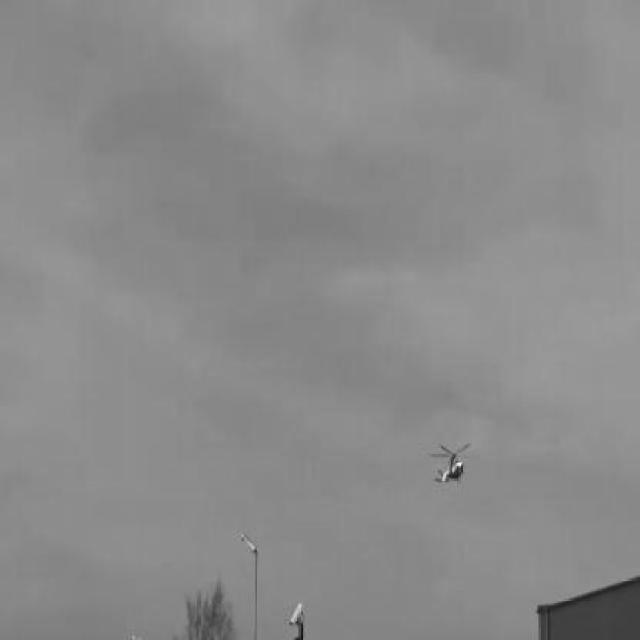helikopter: (426, 431, 479, 486)
